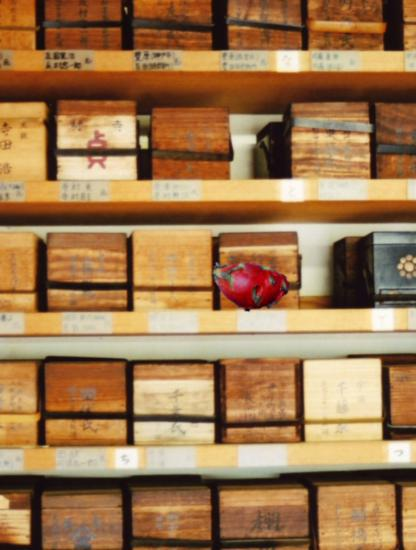Pitahaya: (209, 245, 291, 327)
